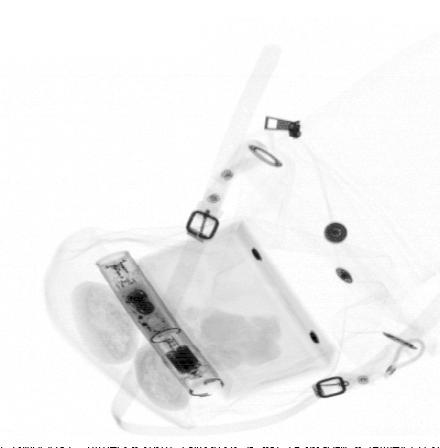Baton: (93, 248, 226, 399)
